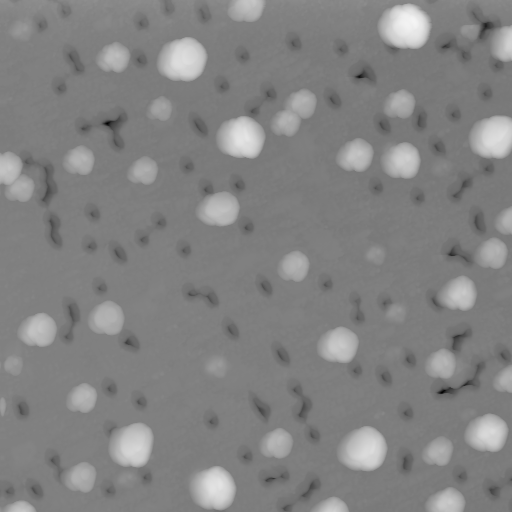Hole: (71, 108, 131, 144), (51, 40, 85, 99), (173, 277, 226, 309), (245, 78, 282, 115), (286, 377, 317, 420), (134, 209, 168, 248), (43, 207, 70, 250), (460, 357, 491, 392), (59, 297, 81, 345), (446, 175, 477, 207), (347, 58, 380, 88), (346, 287, 371, 323), (433, 379, 469, 404), (438, 241, 474, 265), (107, 237, 136, 266), (256, 466, 292, 488), (246, 391, 275, 417), (448, 323, 474, 352), (280, 29, 308, 54), (266, 342, 294, 367), (252, 275, 272, 308), (187, 0, 216, 22), (171, 235, 196, 260), (392, 394, 416, 419), (186, 110, 208, 137), (471, 204, 490, 235), (113, 335, 144, 352), (218, 316, 244, 336), (410, 108, 432, 131), (372, 365, 397, 385), (222, 171, 250, 188), (406, 189, 428, 210), (437, 33, 458, 55), (324, 88, 343, 112), (85, 200, 102, 226), (444, 99, 464, 121), (333, 36, 353, 58), (398, 346, 418, 368), (306, 422, 326, 444), (180, 152, 198, 176), (483, 479, 501, 503), (43, 443, 60, 468), (478, 9, 498, 30), (319, 268, 338, 290), (475, 159, 495, 179), (494, 342, 511, 365), (275, 494, 298, 511), (195, 177, 215, 196), (11, 397, 30, 417), (453, 464, 472, 484), (477, 79, 495, 100), (203, 407, 221, 428), (372, 117, 394, 134), (301, 474, 319, 494), (216, 69, 233, 90), (134, 7, 151, 28), (236, 42, 254, 61), (367, 178, 387, 195), (346, 362, 366, 379), (133, 48, 150, 68), (433, 136, 450, 155), (100, 478, 119, 495), (55, 1, 75, 17), (83, 233, 98, 254), (485, 57, 506, 72), (399, 451, 413, 473), (242, 215, 259, 233), (456, 47, 473, 64), (133, 391, 150, 408), (105, 377, 119, 397), (35, 11, 48, 31), (3, 479, 18, 496), (237, 447, 254, 462), (376, 289, 389, 308), (91, 279, 105, 296), (160, 0, 175, 15), (141, 469, 154, 486), (29, 477, 41, 494)
Particle: (326, 424, 391, 474), (101, 418, 163, 470), (379, 0, 434, 54), (154, 34, 214, 79), (213, 112, 267, 159), (183, 465, 237, 511), (458, 410, 511, 455), (2, 146, 35, 216), (465, 110, 511, 158), (376, 138, 423, 182), (192, 191, 246, 229), (313, 325, 363, 366), (435, 273, 486, 311), (254, 424, 301, 463), (274, 248, 317, 288), (15, 311, 60, 349), (332, 136, 378, 173), (92, 39, 133, 75), (88, 298, 127, 334), (121, 151, 163, 184), (62, 141, 98, 179), (420, 349, 458, 385), (59, 460, 98, 494), (285, 85, 324, 119), (422, 484, 470, 511), (419, 435, 457, 469), (226, 0, 271, 28), (380, 87, 420, 118), (64, 382, 100, 415), (472, 239, 509, 271), (199, 349, 233, 383), (271, 106, 302, 140), (142, 90, 173, 123), (485, 19, 511, 58), (359, 239, 390, 271), (306, 493, 356, 511), (380, 302, 411, 328), (4, 20, 34, 45), (491, 367, 511, 396), (1, 353, 23, 377), (1, 499, 45, 511), (495, 203, 511, 235), (458, 22, 480, 39), (1, 394, 9, 417)
